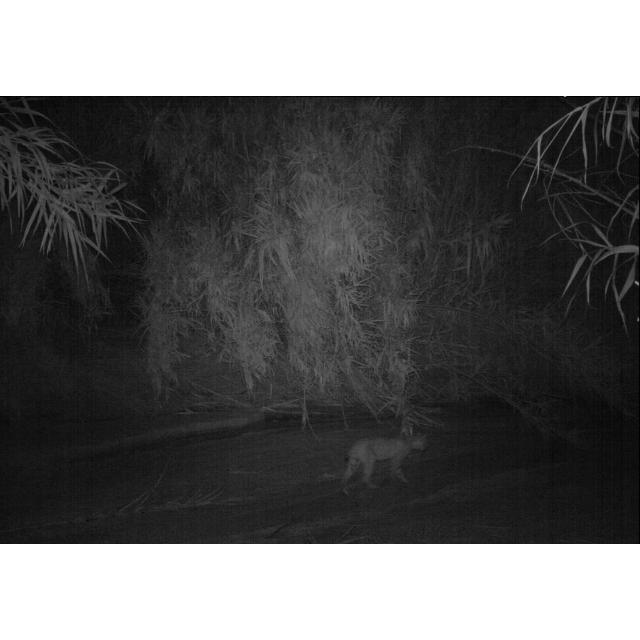animals: (343, 431, 429, 494)
